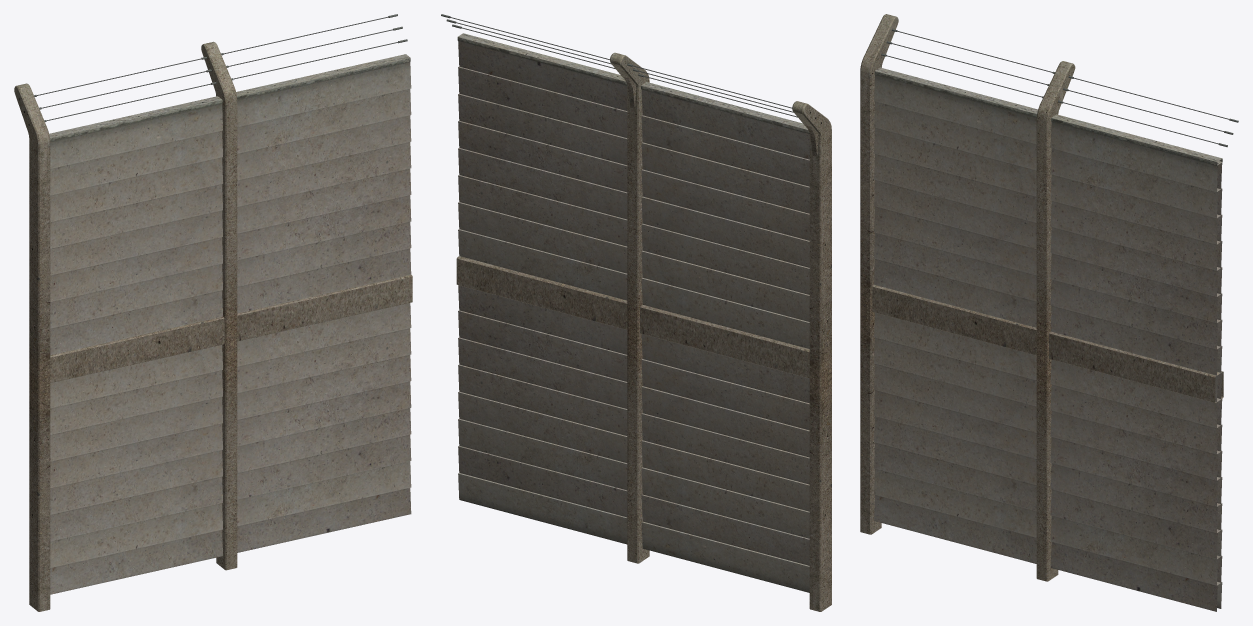
File: object_29.008_lev2.glb
The picture shows the model from 3 angles, left to right: view 1: azimuth 30°, elevation 25°; view 2: azimuth 150°, elevation 25°; view 3: azimuth 330°, elevation 25°; orthographic projection. The views are drawn at different scales.
Visible parts, largest first — view 1: object_29.008_lev2; view 2: object_29.008_lev2; view 3: object_29.008_lev2.
Boxes of the visible parts, <box> form: object_29.008_lev2: <box>14,14,412,611</box>; object_29.008_lev2: <box>441,14,831,611</box>; object_29.008_lev2: <box>860,14,1238,611</box>.
Size of the model in its own units: 6.23 by 8.14 by 0.9699.
Materials: 1 (1 with a texture image).
